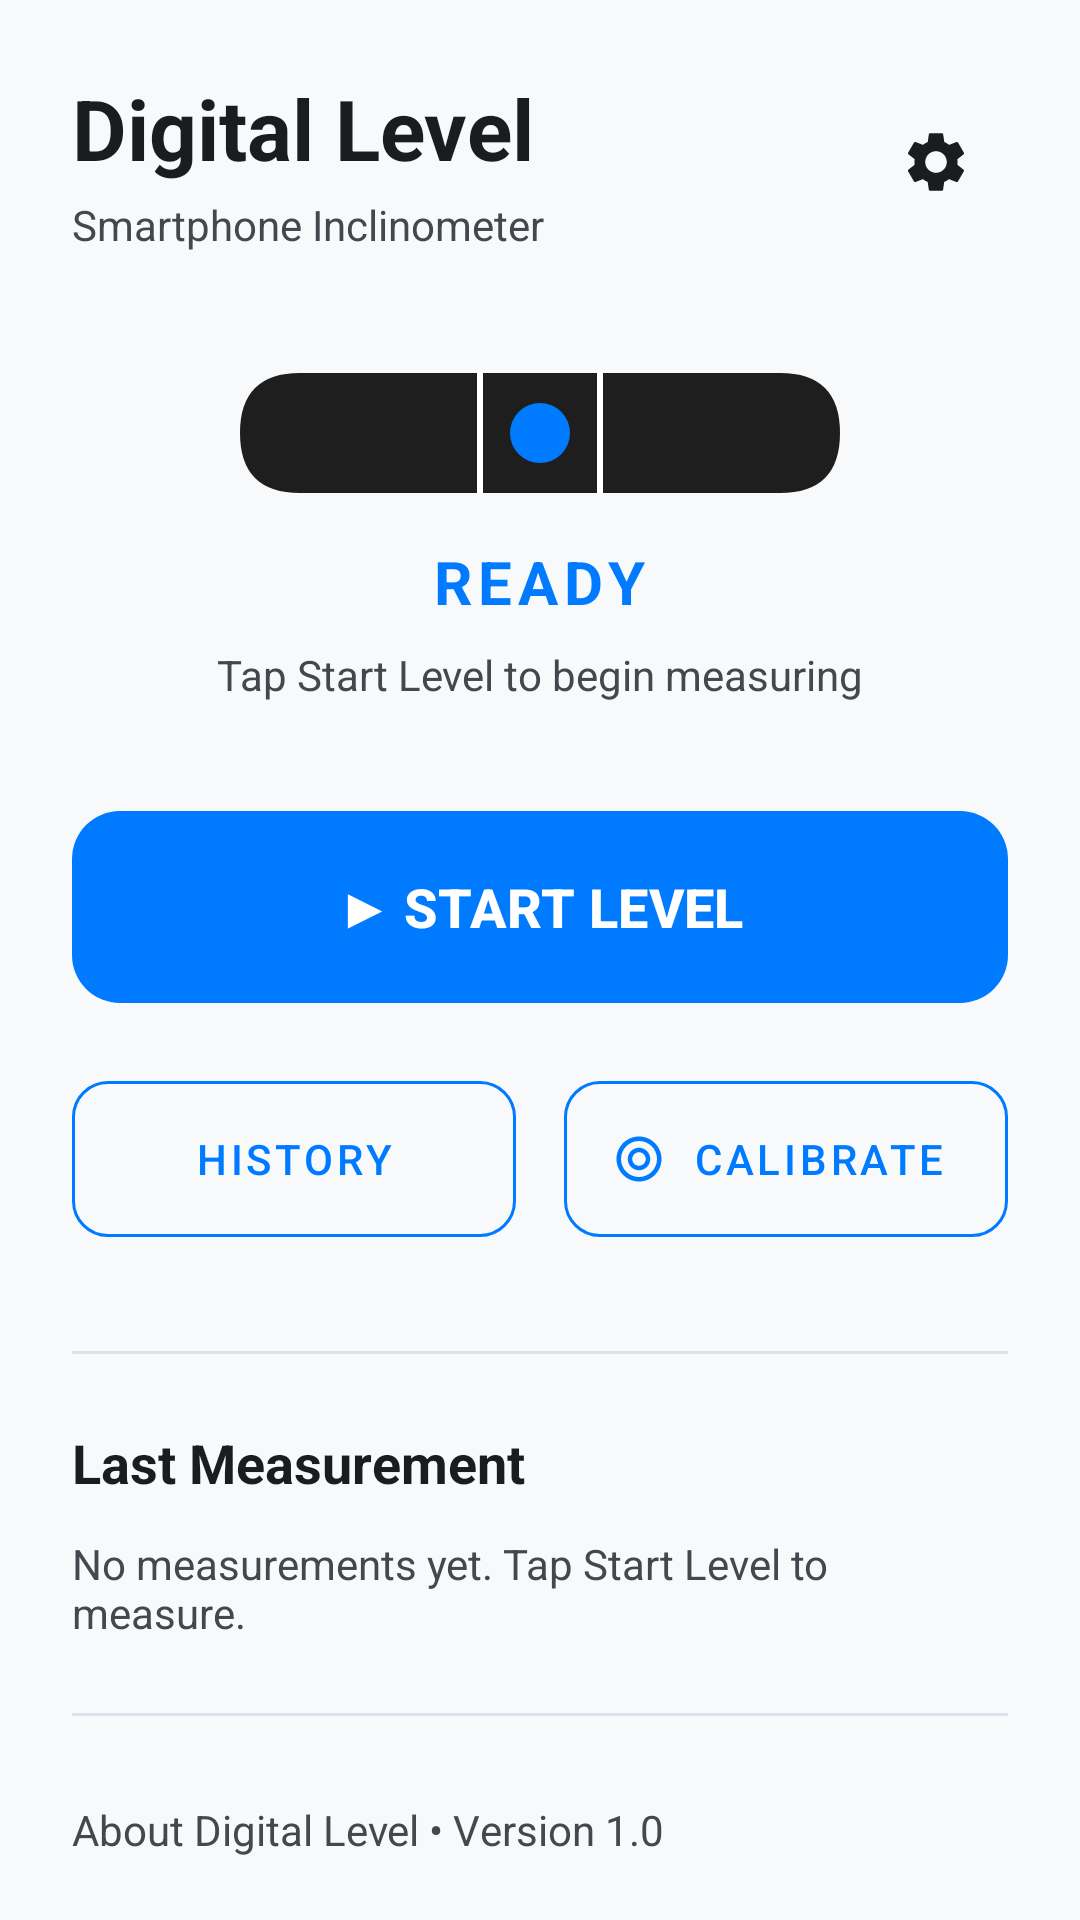

Where icons sit on this 1080w x 1920h app screen, as (x1, y1, x2, y2):
Settings: (908, 133, 964, 191)
